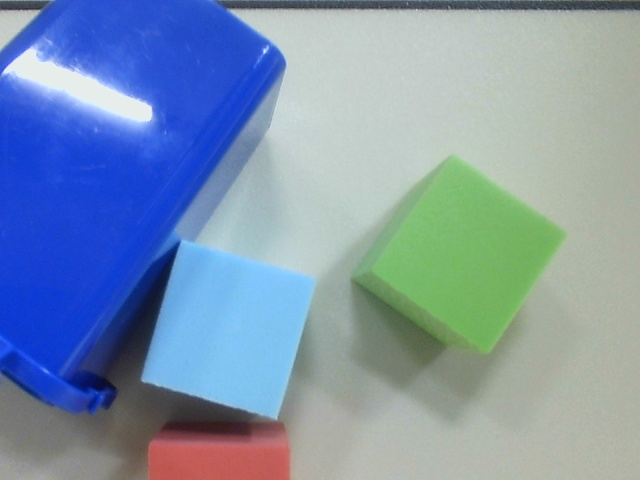greencube: (351, 153, 572, 365)
